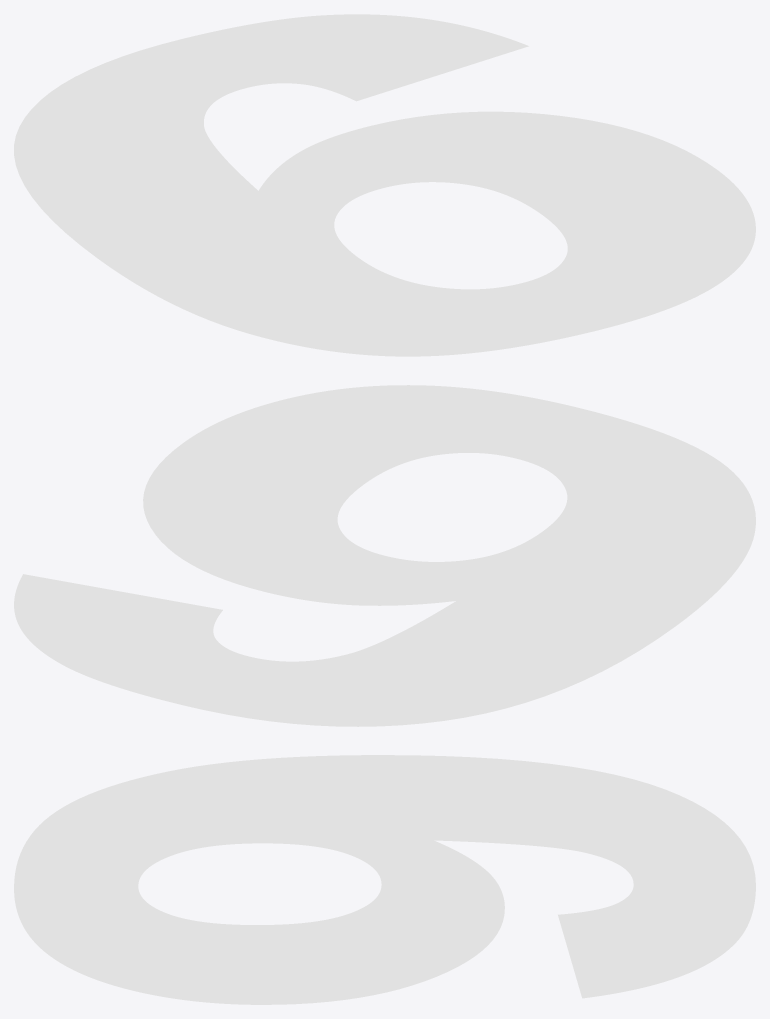
3 views of the same model, one above another, from view 1: azimuth 30°, elevation 25°; view 2: azimuth 150°, elevation 25°; view 3: azimuth 270°, elevation 25° (orthographic). The views are drawn at different scales.
Visible parts, largest first — view 1: テキスト; view 2: テキスト; view 3: テキスト.
Part boxes in pixels (x1,y1,x2,y2): テキスト: (14,14,755,356); テキスト: (14,385,755,726); テキスト: (14,755,755,1004).
Bounding box in the file's own units: 0.4243 × 0 × 0.5325.
1 material, 1 textured.
